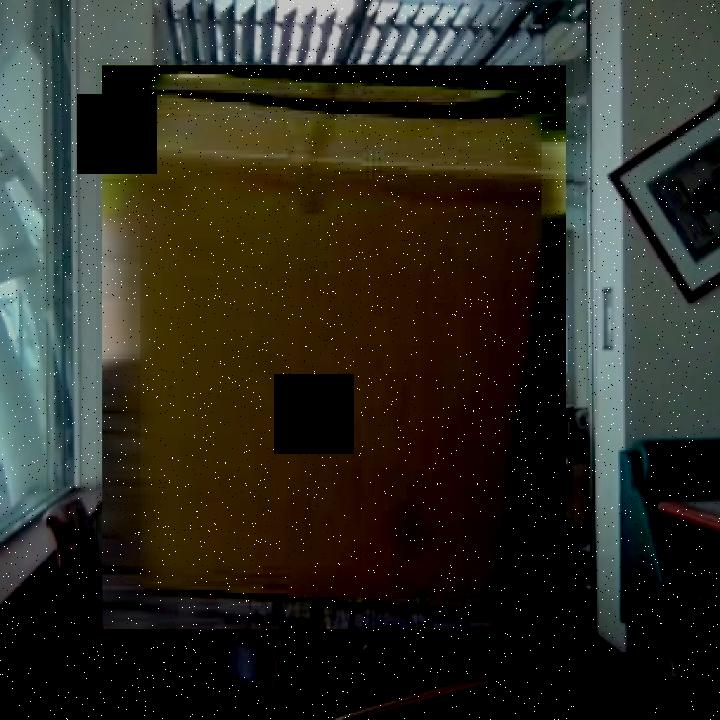box: (96, 59, 574, 640)
